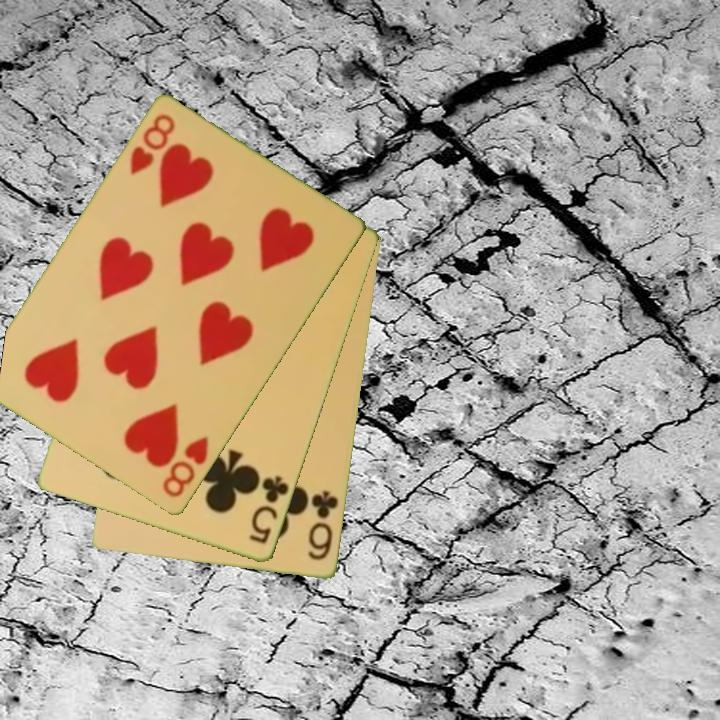5c: (246, 472, 292, 548)
6c: (304, 487, 342, 564)
8h: (158, 432, 212, 501), (126, 111, 179, 179)
